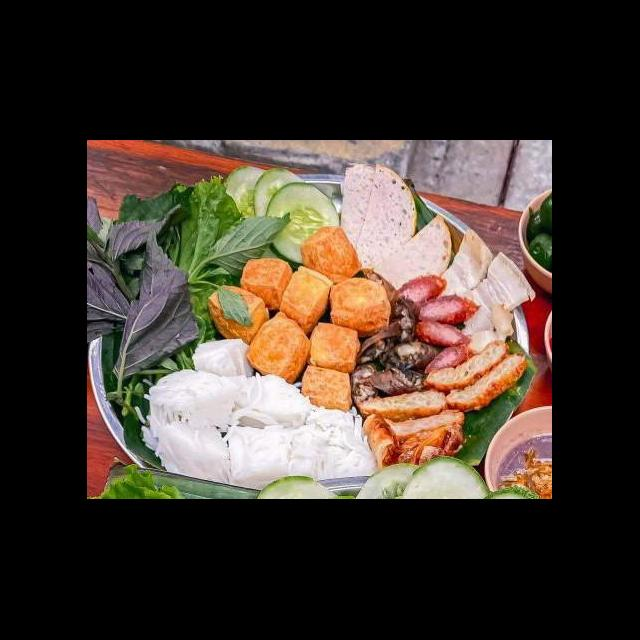bun: (136, 332, 384, 493)
bun dau: (88, 163, 552, 500)
cha com: (392, 271, 484, 378), (352, 386, 472, 466), (419, 338, 534, 416)
dau hu: (240, 306, 316, 386), (323, 274, 398, 342), (296, 222, 368, 292), (202, 282, 274, 348), (276, 260, 338, 334), (236, 254, 296, 316), (300, 318, 364, 376), (298, 354, 356, 418)
doi sun: (352, 290, 439, 406)
thit heo: (438, 222, 540, 344)
